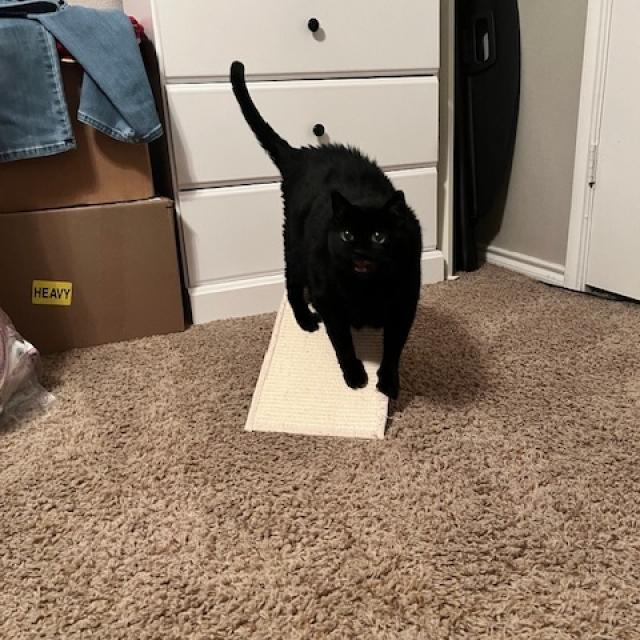bombay_cat: (320, 185, 416, 296)
